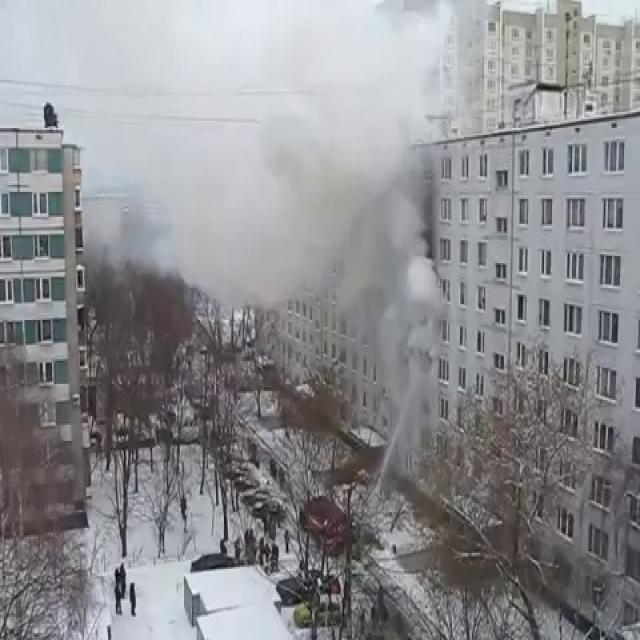Smoke: (85, 0, 468, 462)
